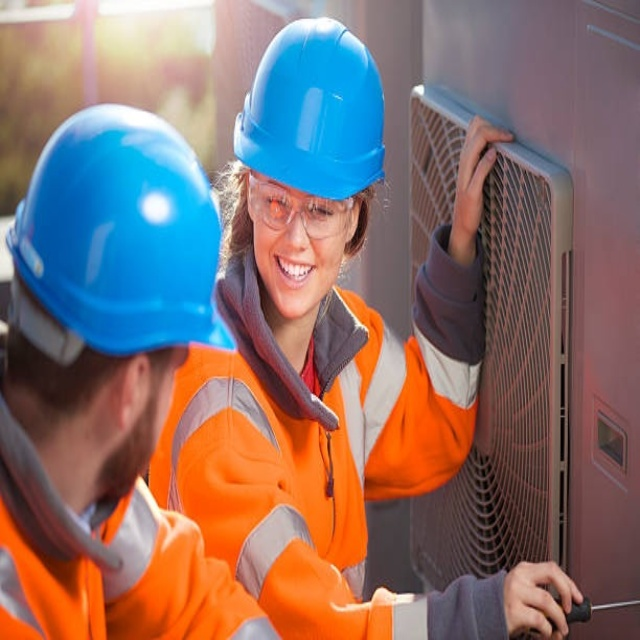Gafas: (246, 171, 353, 238)
Sin_guantes: (450, 111, 518, 237), (502, 559, 582, 640)
Sin_mascara: (273, 253, 316, 287)
